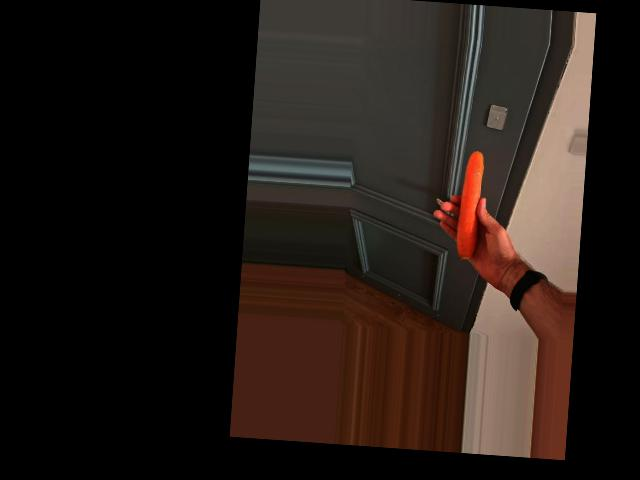carrot: (455, 152, 488, 259)
